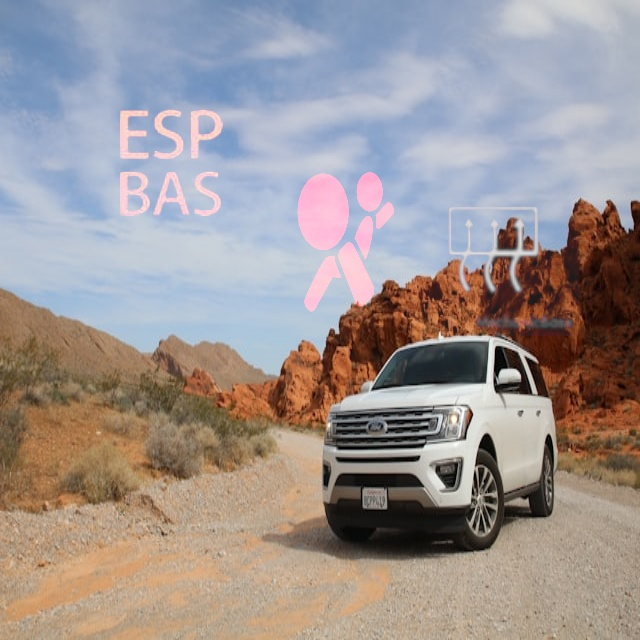symbol: (246, 144, 433, 331), (85, 78, 258, 251), (409, 166, 579, 336)
